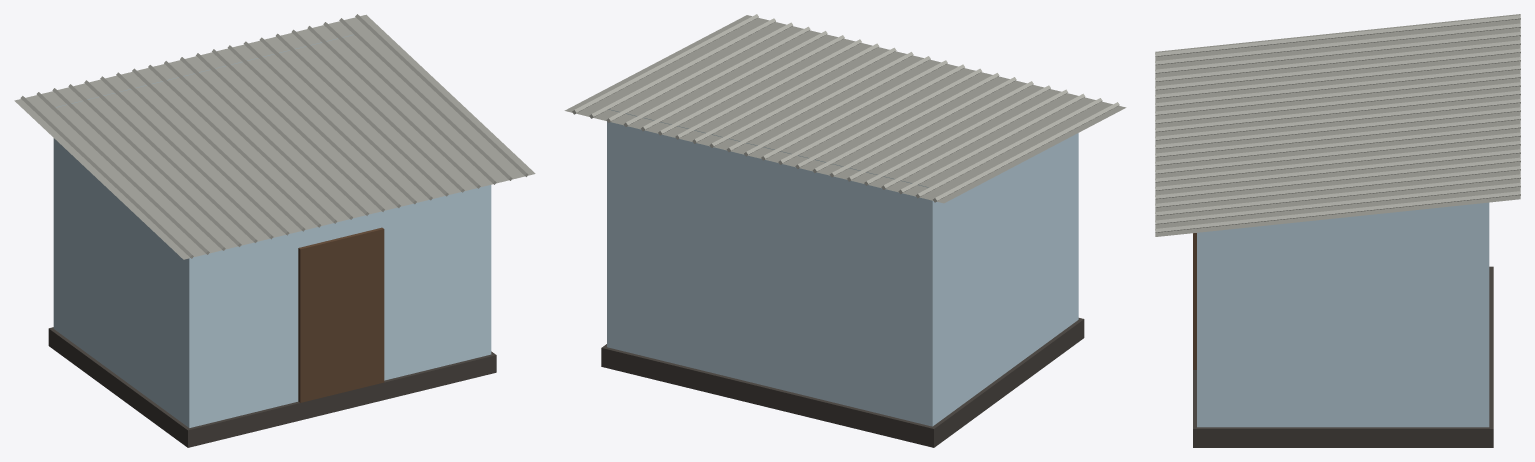
Rendered from KG_Saray.obj.
3 views of the same model, side by side, from view 1: azimuth 30°, elevation 25°; view 2: azimuth 150°, elevation 25°; view 3: azimuth 270°, elevation 25° (orthographic). The views are drawn at different scales.
Parts seen in each view (by area): view 1: KG_Saray; view 2: KG_Saray; view 3: KG_Saray.
Boxes of the visible parts, x1,y1,x2,y2 form: KG_Saray: (14,14,535,447); KG_Saray: (564,14,1126,447); KG_Saray: (1155,14,1520,447).
Bounding box in the file's own units: 4.2 × 2.78 × 3.51.
